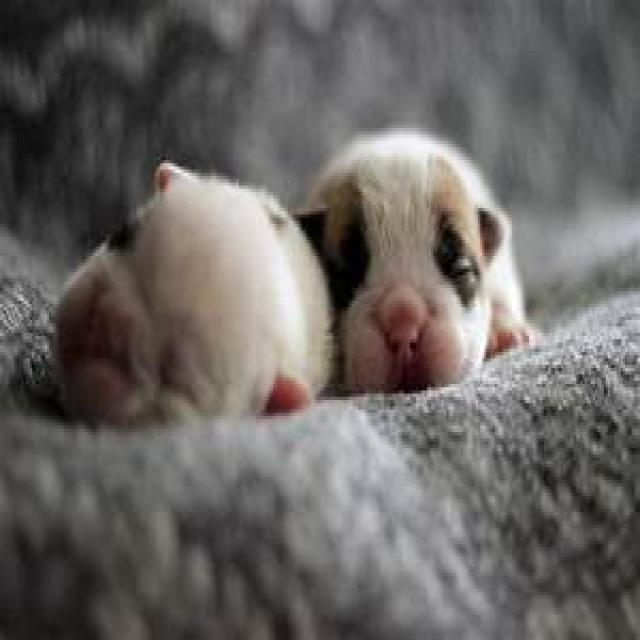dog: (56, 165, 329, 423), (310, 131, 529, 391)
